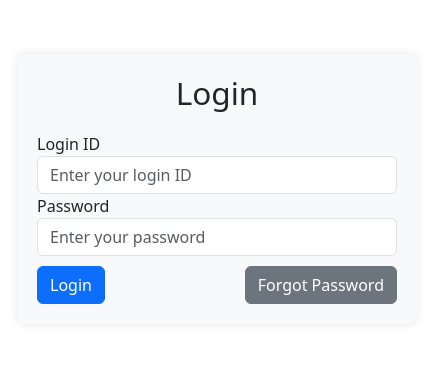
it: LoginPage › shows error message for empty login ID
The width and height of the screenshot is (435, 379).
Step 1. Click the button "Login" → (71, 285), box [37,266,105,304]
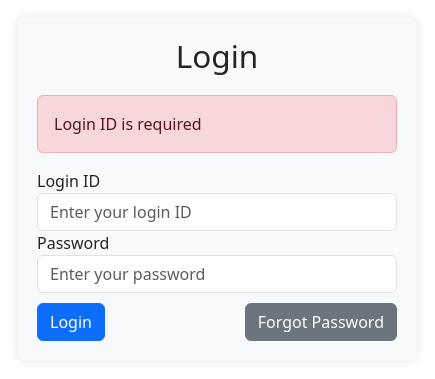
Expected: the text "Login ID is required" is shown, [37,95,397,153]
